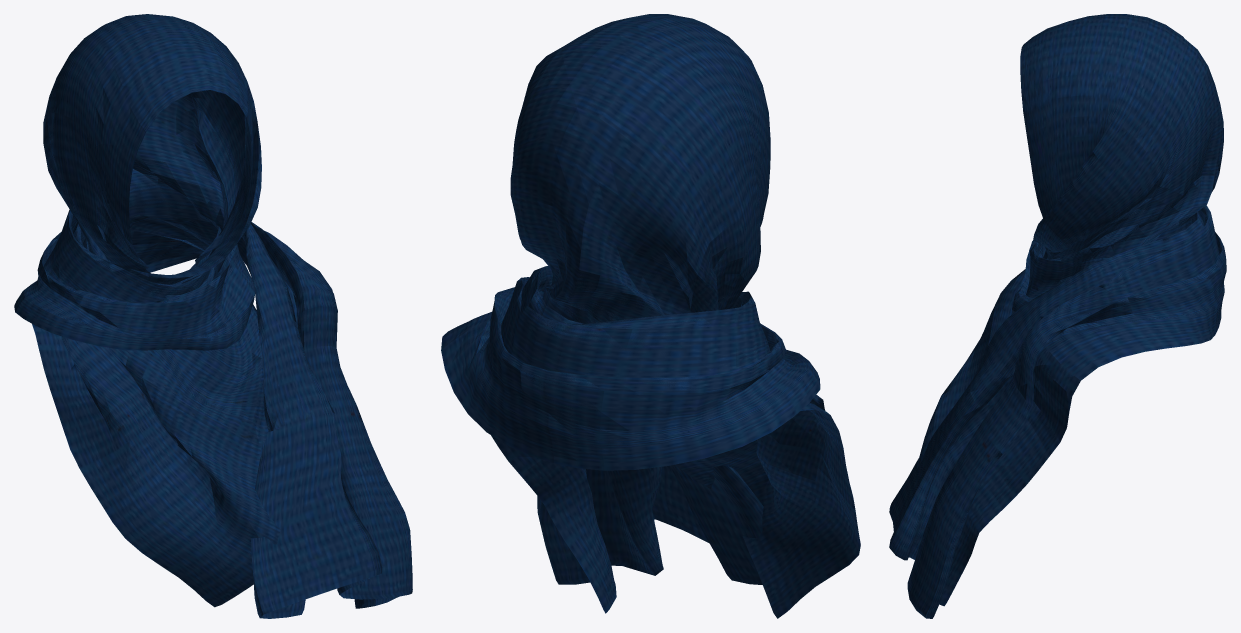
Rendered from Hijab_Model.fbx.
The picture shows the model from 3 angles, left to right: view 1: azimuth 30°, elevation 25°; view 2: azimuth 150°, elevation 25°; view 3: azimuth 270°, elevation 25°; orthographic projection. The views are drawn at different scales.
Visible parts, largest first — view 1: hijab-out; view 2: hijab-out; view 3: hijab-out.
Boxes of the visible parts, x1,y1,x2,y2 form: hijab-out: [14, 14, 412, 618]; hijab-out: [441, 14, 860, 618]; hijab-out: [889, 14, 1226, 618].
Bounding box in the file's own units: 14.49 × 25.17 × 14.54.
